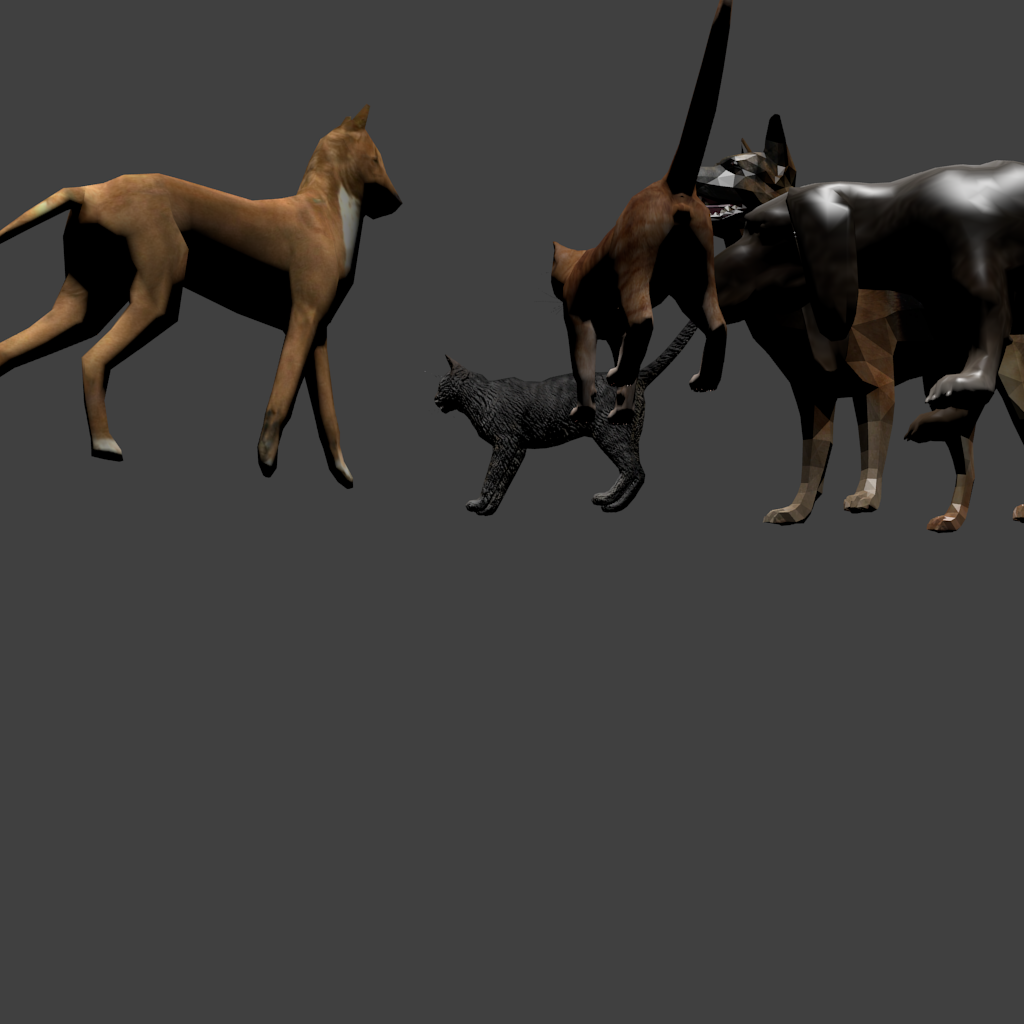Dog: (0, 104, 403, 386)
